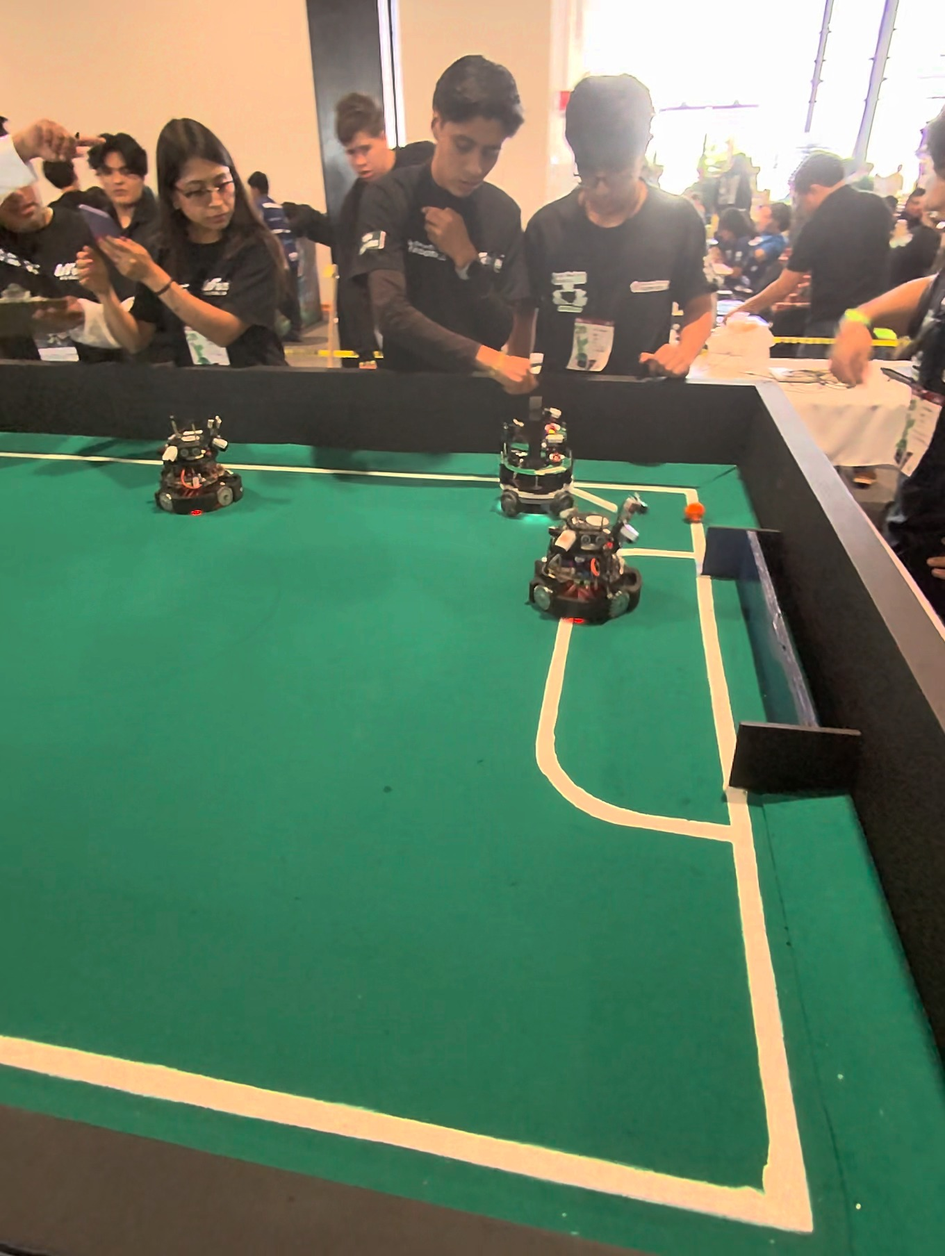Robot: (530, 486, 646, 618), (484, 377, 579, 520), (146, 408, 238, 525)
pelota: (683, 498, 707, 523)
